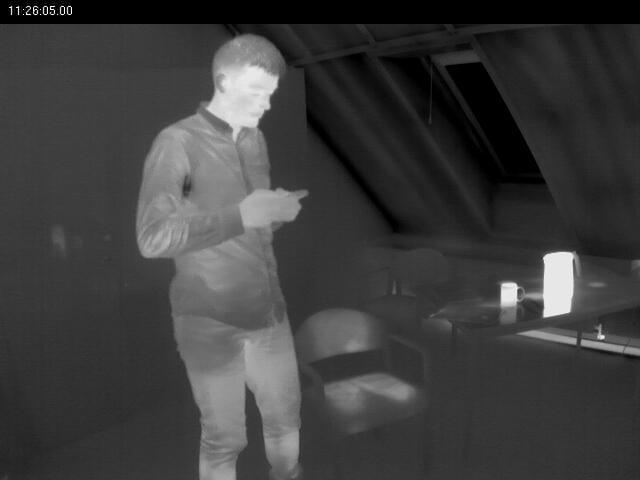person: (130, 33, 322, 476)
